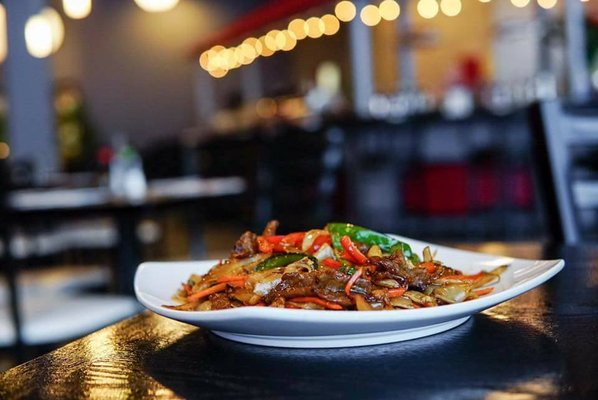burger: (108, 130, 148, 205)
curry: (40, 228, 595, 396)
sandwich: (170, 222, 517, 314)
